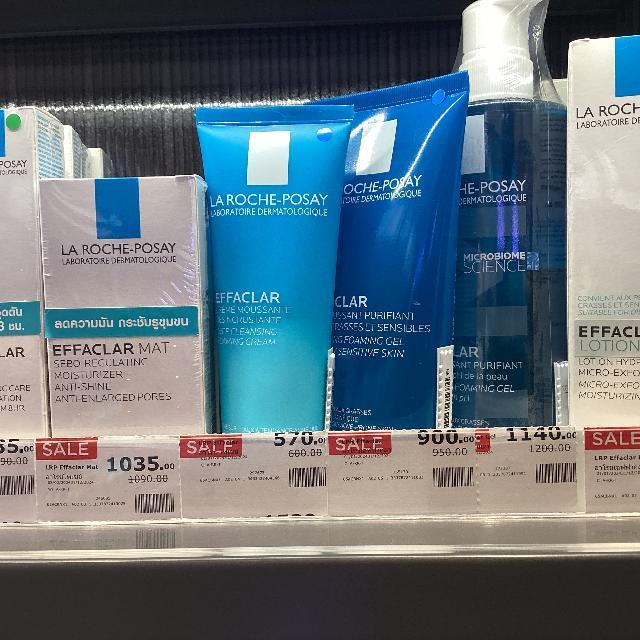Squeeze Tube: (177, 66, 499, 479), (194, 99, 360, 444), (321, 69, 475, 426)
